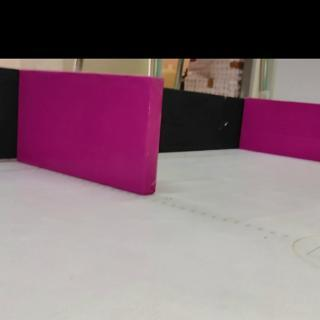xparking: (19, 79, 158, 181), (245, 105, 320, 157)
